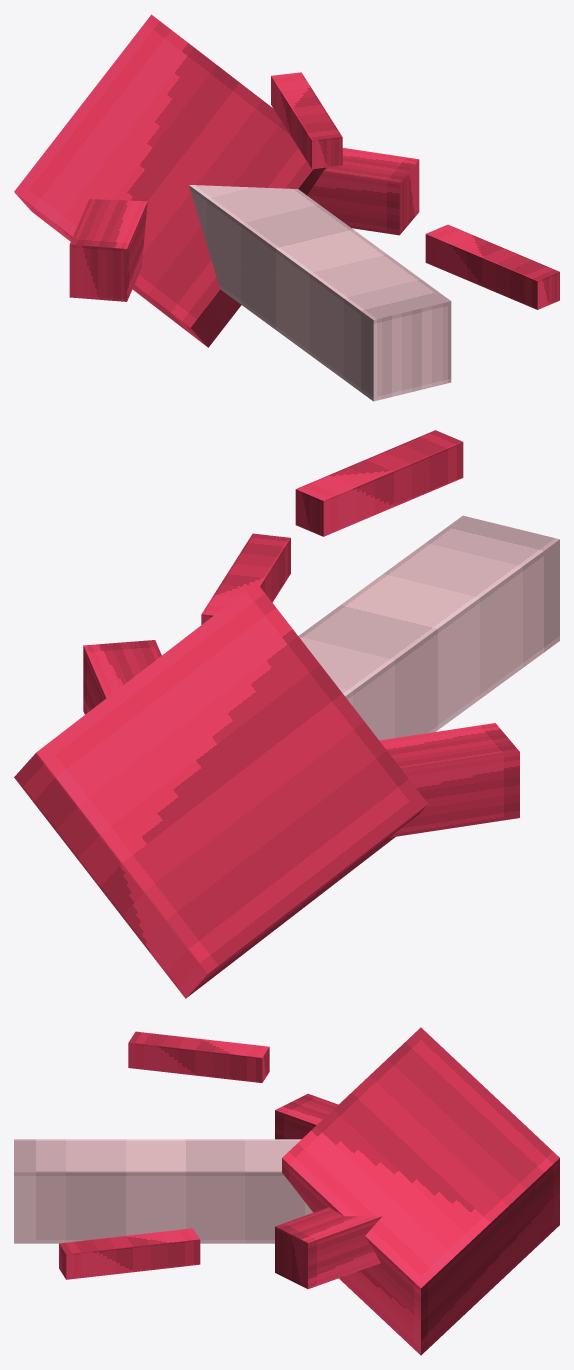
Rendered from tower_shot_red.gltf.
The picture shows the model from 3 angles, top to bottom: view 1: azimuth 30°, elevation 25°; view 2: azimuth 150°, elevation 25°; view 3: azimuth 270°, elevation 25°; orthographic projection. The views are drawn at different scales.
Parts seen in each view (by area): view 1: core_mesh; view 2: core_mesh; view 3: core_mesh.
Boxes of the visible parts, x1,y1,x2,y2 form: core_mesh: (14,14,559,401); core_mesh: (14,430,559,998); core_mesh: (14,1027,559,1355).
Size of the model in its own units: 0.4812 by 0.4535 by 0.7378.
Materials: 1 (1 with a texture image).
